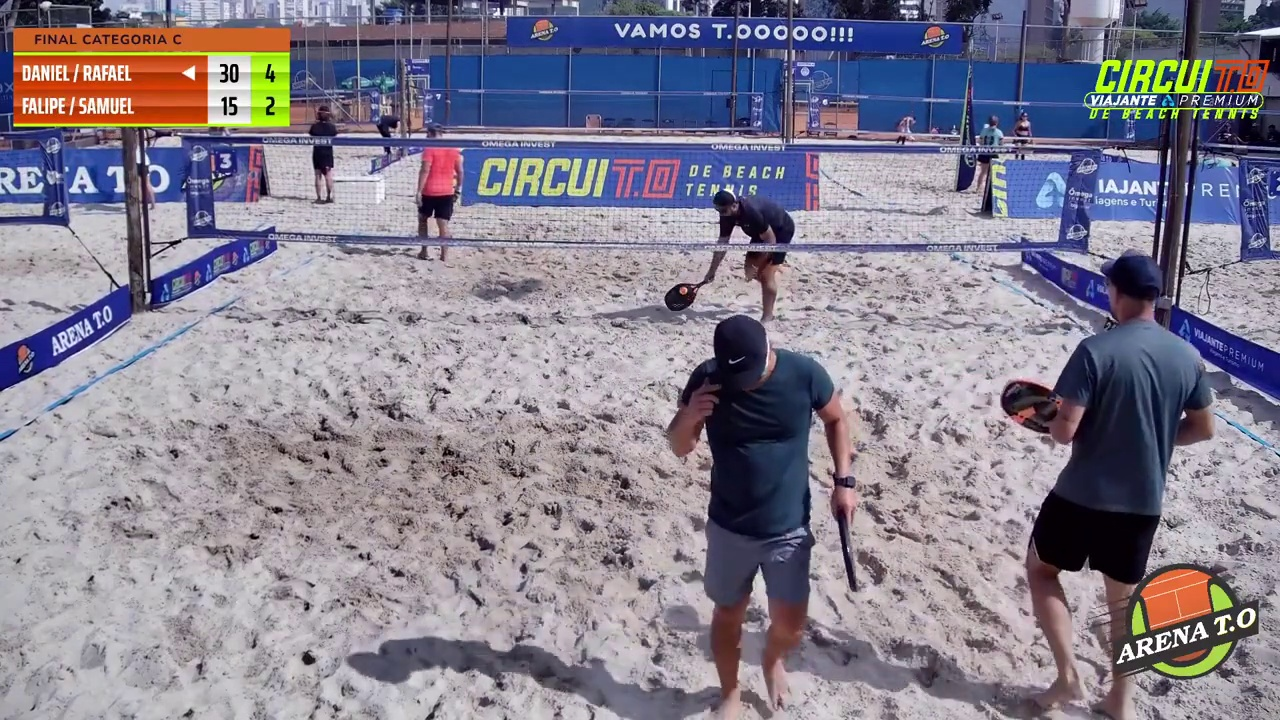court_line: (644, 0, 802, 393)
